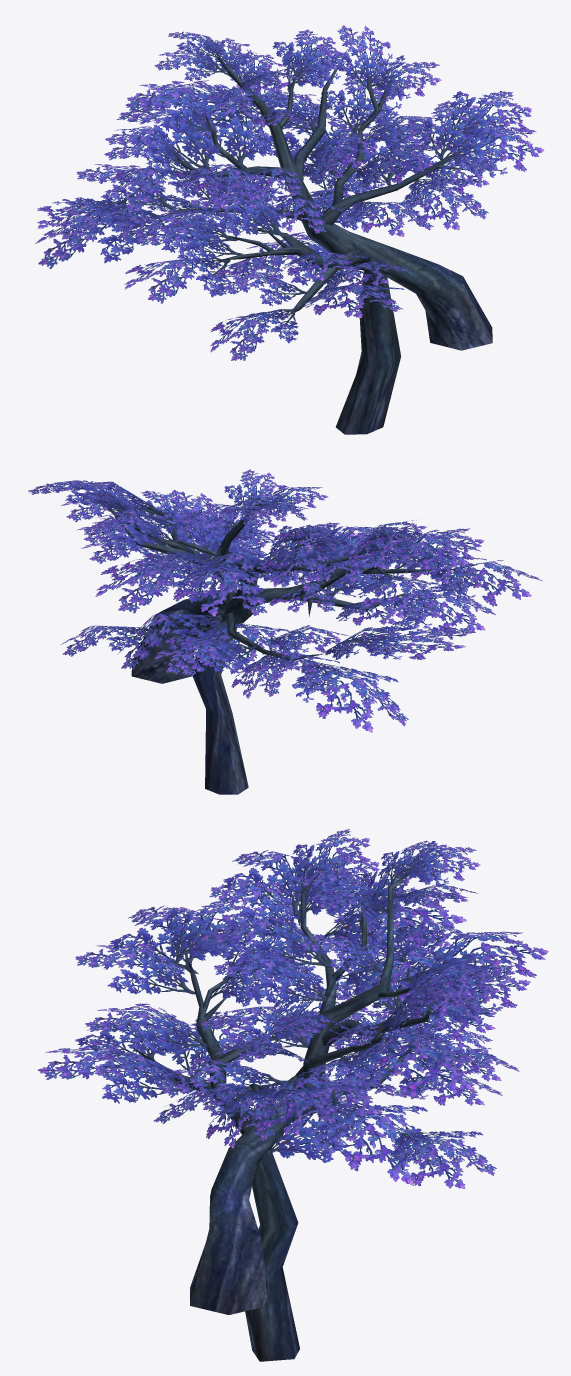
File: M3_P_shu001.FBX
3 views of the same model, one above another, from view 1: azimuth 30°, elevation 25°; view 2: azimuth 150°, elevation 25°; view 3: azimuth 270°, elevation 25° (orthographic). The views are drawn at different scales.
Parts seen in each view (by area): view 1: M3_P_shu001; view 2: M3_P_shu001; view 3: M3_P_shu001.
Part boxes in pixels (x1,y1,x2,y2): M3_P_shu001: (35, 25, 544, 434); M3_P_shu001: (28, 469, 541, 794); M3_P_shu001: (38, 829, 548, 1361).
Size of the model in its own units: 972 by 689 by 764.
